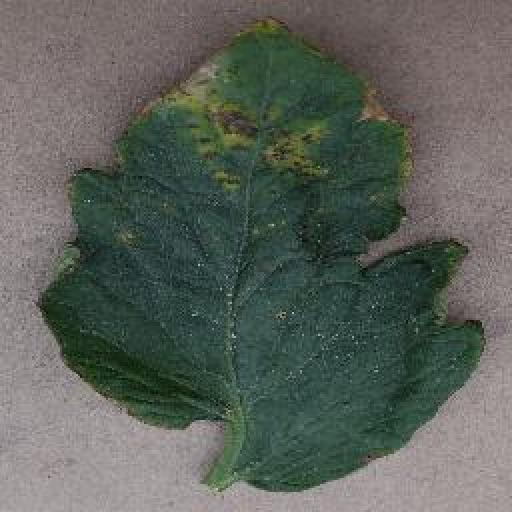Bacterial Spot: (32, 8, 492, 500)
